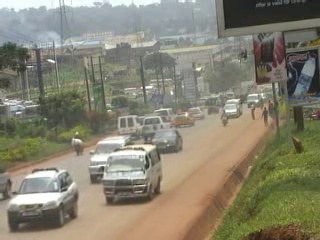Car: (5, 166, 79, 231), (87, 131, 133, 183), (150, 127, 185, 156), (140, 113, 171, 144), (114, 112, 142, 141), (0, 163, 14, 199), (173, 111, 195, 130), (221, 102, 241, 120), (186, 104, 203, 119)
Motorcycle: (71, 128, 86, 158), (220, 109, 228, 128)
